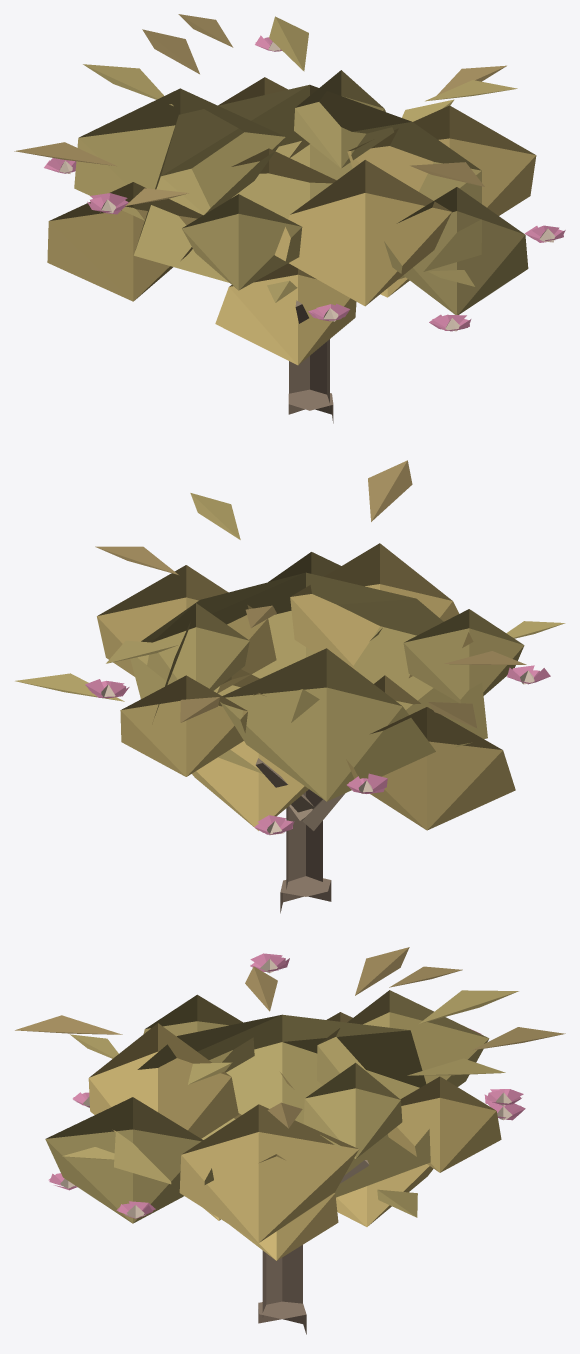
Rendered from nong.sang@flowering__autumn.glb.
3 renders of one model, top to bottom at view 1: azimuth 30°, elevation 25°; view 2: azimuth 150°, elevation 25°; view 3: azimuth 270°, elevation 25°, orthographic. The views are drawn at different scales.
Visible parts, largest first — view 1: nong.sang@flowering__autumn; view 2: nong.sang@flowering__autumn; view 3: nong.sang@flowering__autumn.
Boxes of the visible parts, <box> form: nong.sang@flowering__autumn: <box>14,14,565,423</box>; nong.sang@flowering__autumn: <box>15,460,565,913</box>; nong.sang@flowering__autumn: <box>15,947,565,1334</box>.
Bounding box in the file's own units: 8.5 × 6.33 × 9.27.
